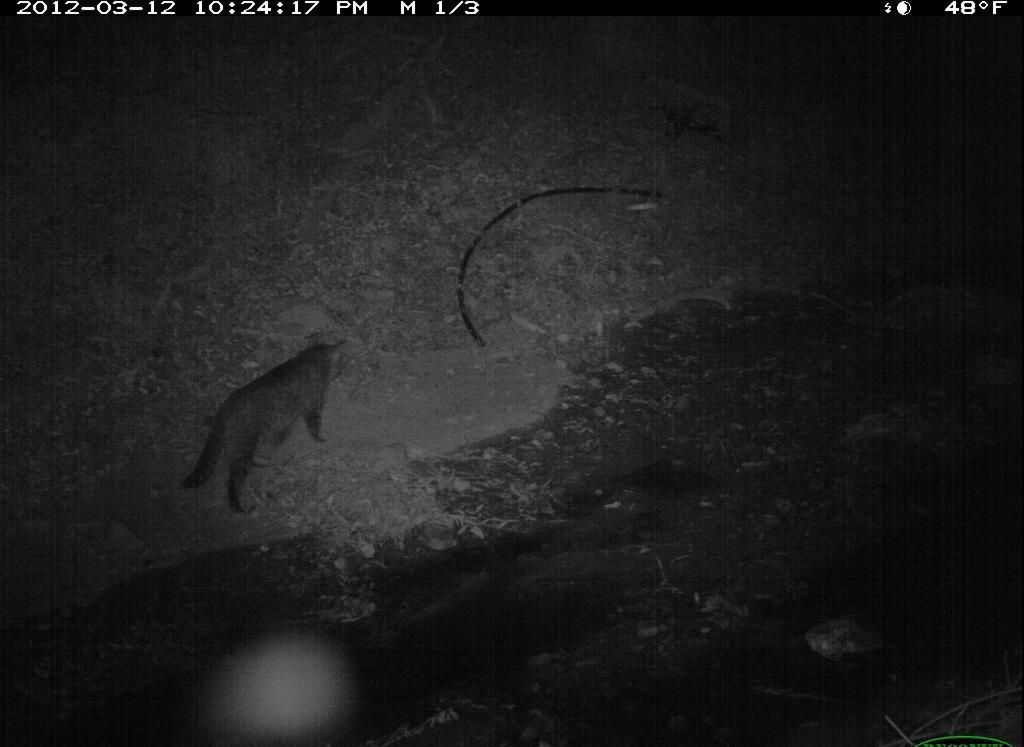cat: (168, 321, 369, 525)
